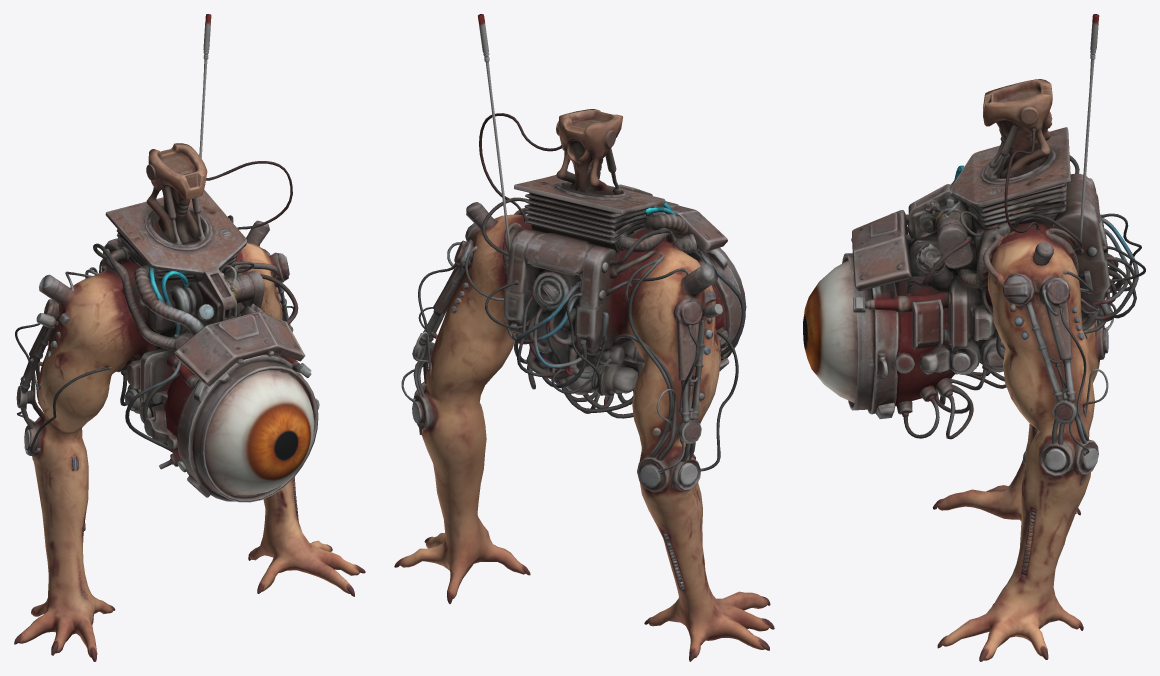
File: tripo_convert_f2a740fa-e0f8-4f8c-86da-8dc76080806f.fbx
3 renders of one model, left to right at view 1: azimuth 30°, elevation 25°; view 2: azimuth 150°, elevation 25°; view 3: azimuth 270°, elevation 25°, orthographic. The views are drawn at different scales.
Parts seen in each view (by area): view 1: tripo_node_f2a740fa; view 2: tripo_node_f2a740fa; view 3: tripo_node_f2a740fa.
Part boxes in pixels (box(x1,y1,x2,y2)): tripo_node_f2a740fa: box(14, 14, 365, 661); tripo_node_f2a740fa: box(394, 14, 774, 661); tripo_node_f2a740fa: box(803, 14, 1145, 661).
Bounding box in the file's own units: 0.6333 × 0.9995 × 0.52.
Materials: 1 (1 with a texture image).
